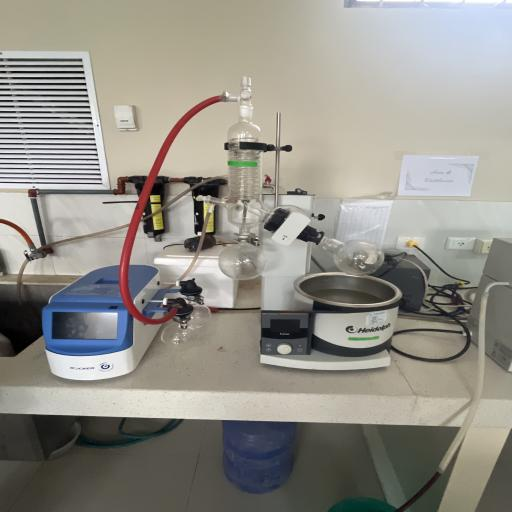Sistema_Rotaevaporacion: (32, 68, 400, 384)
